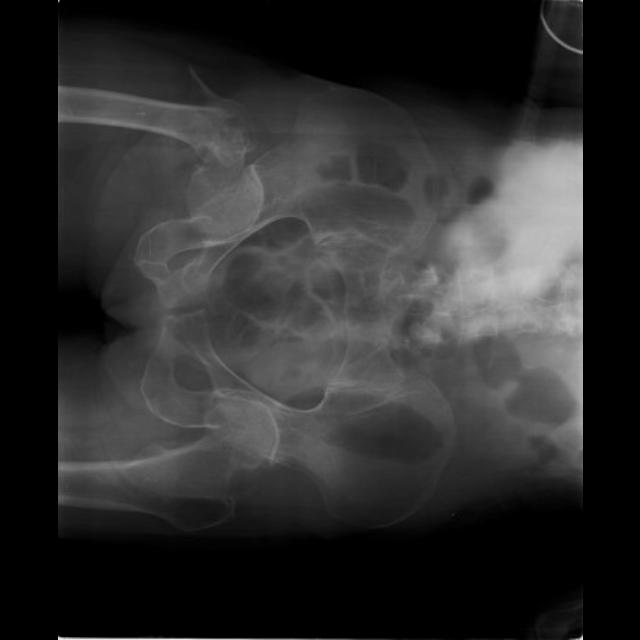fractured: (186, 65, 264, 166)
